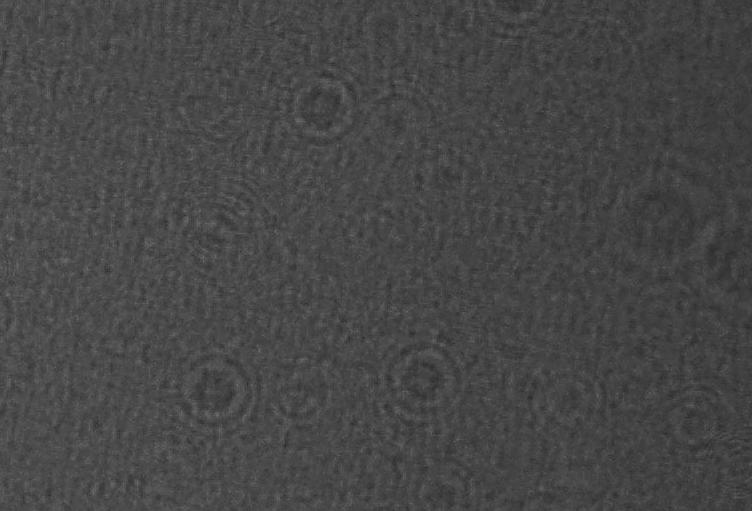bead: (363, 324, 483, 426), (268, 61, 372, 150), (170, 347, 251, 430), (470, 0, 559, 44)
